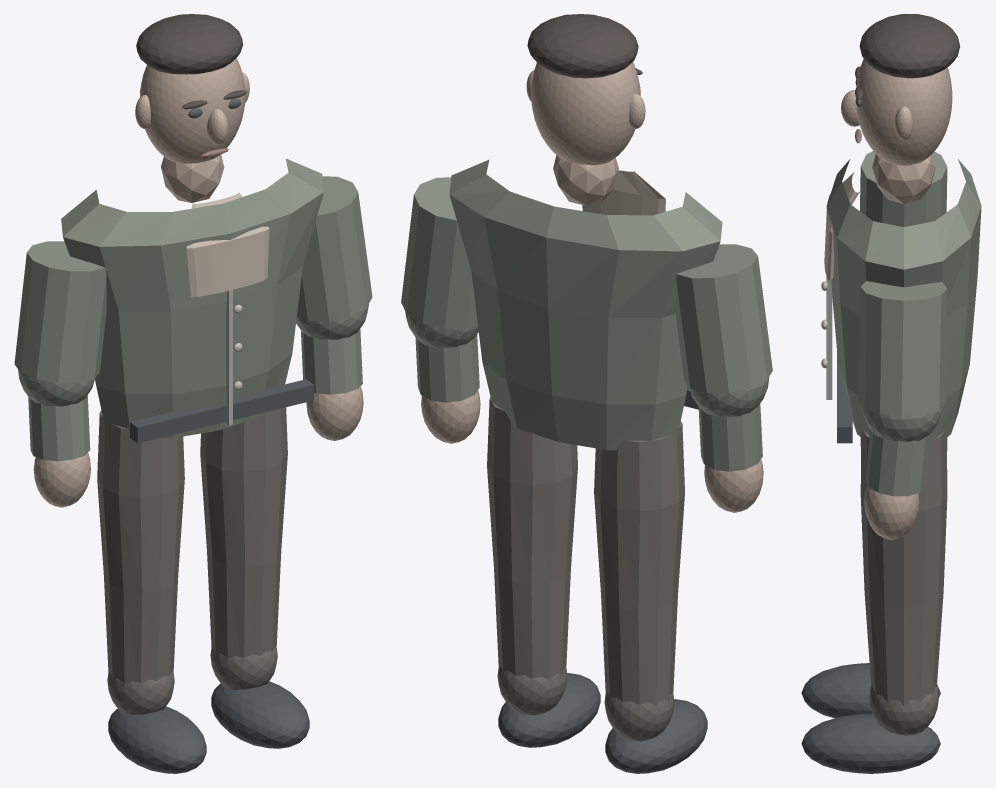
The model's file is pedestrian-6.glb.
The picture shows the model from 3 angles, left to right: view 1: azimuth 30°, elevation 25°; view 2: azimuth 150°, elevation 25°; view 3: azimuth 270°, elevation 25°; orthographic projection. The views are drawn at different scales.
Parts seen in each view (by area): view 1: torso, leg_L, leg_R, arm_L, arm_R, head; view 2: torso, leg_L, leg_R, arm_L, arm_R, head; view 3: leg_R, torso, arm_R, head, arm_L, leg_L.
Boxes of the visible parts, x1,y1,x2,y2 form: torso: (61,154,323,443); leg_L: (97,410,206,773); leg_R: (200,407,309,748); arm_L: (14,241,106,507); arm_R: (296,176,372,440); head: (135,14,249,163); torso: (449,155,722,450); leg_L: (594,421,707,773); leg_R: (487,397,600,747); arm_L: (675,244,772,512); arm_R: (401,177,480,443); head: (526,14,645,165); leg_R: (801,430,947,773); torso: (821,154,981,443); arm_R: (858,281,947,539); head: (841,14,960,165); arm_L: (860,151,947,226); leg_L: (801,437,947,718).
Bounding box in the file's own units: 1.04 × 2.05 × 0.465.
